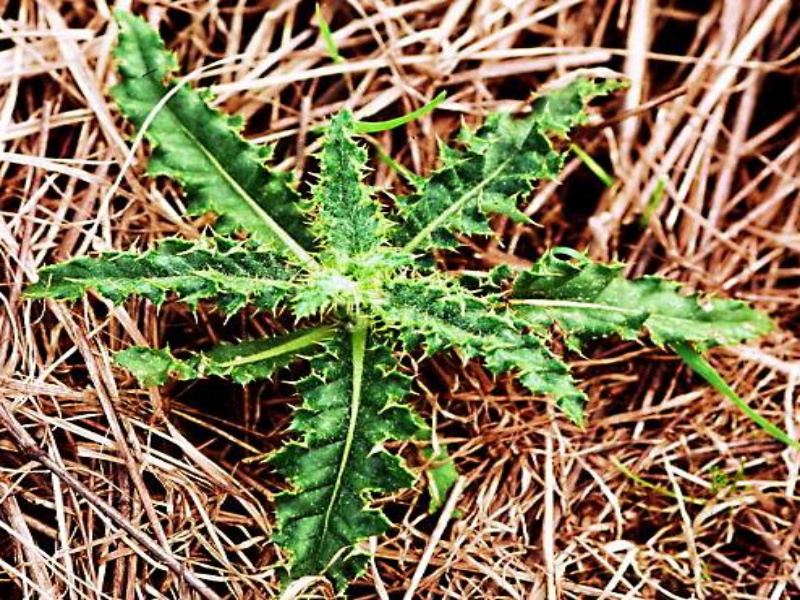weed: (71, 29, 729, 516)
